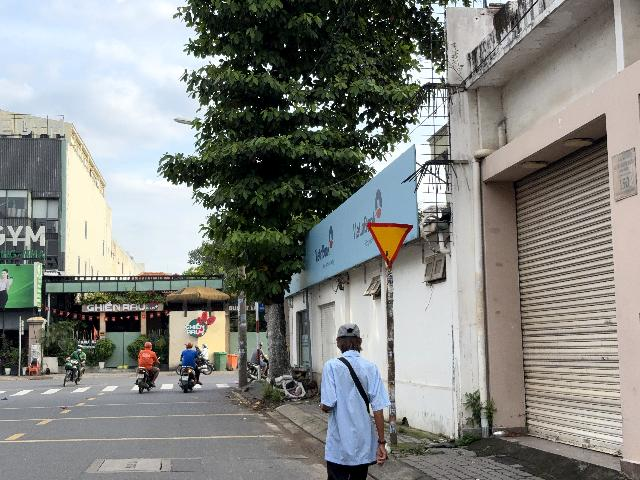giao-nhau-voi-duong-uu-tien: (366, 222, 413, 267)
